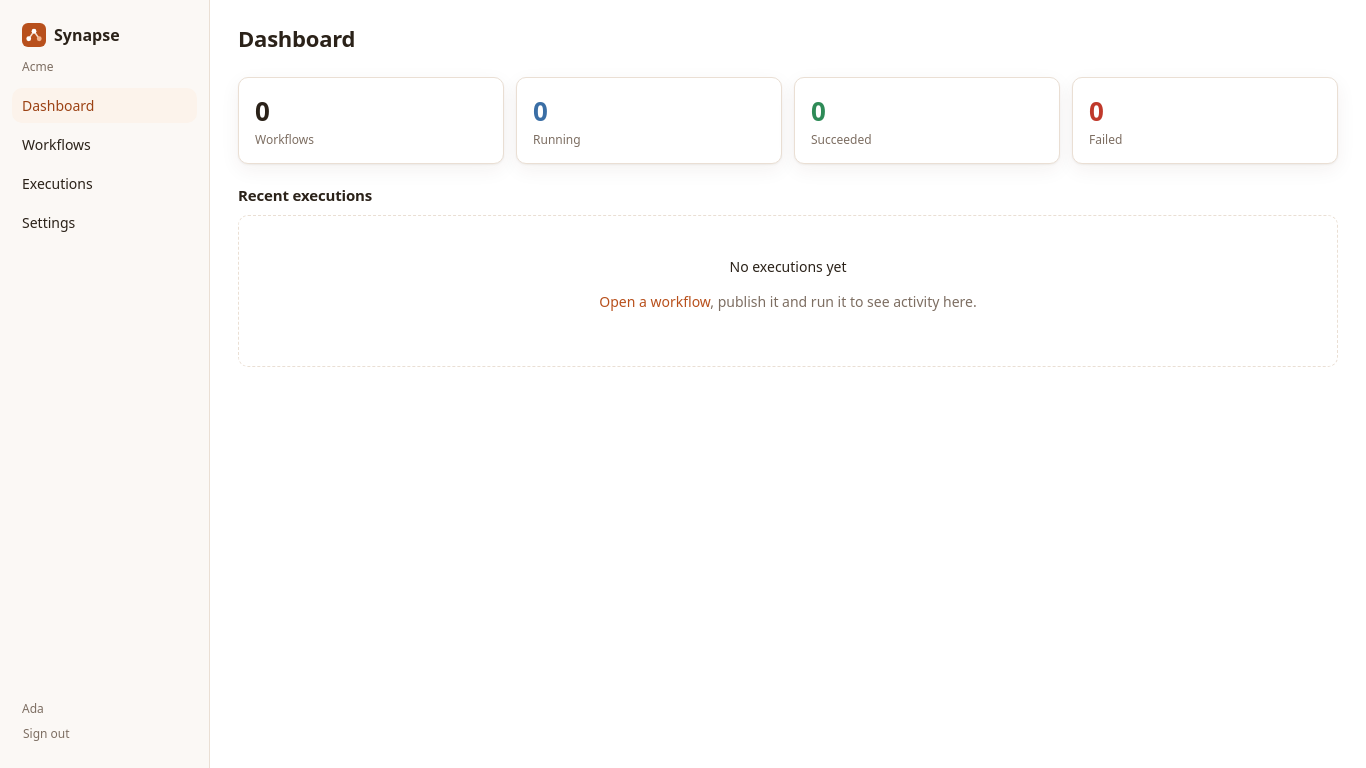
it: app shell › returns to the landing page on sign out
The image size is (1366, 768).
Step 1. Click the button "Sign out" → [46, 734], box [22, 722, 71, 746]
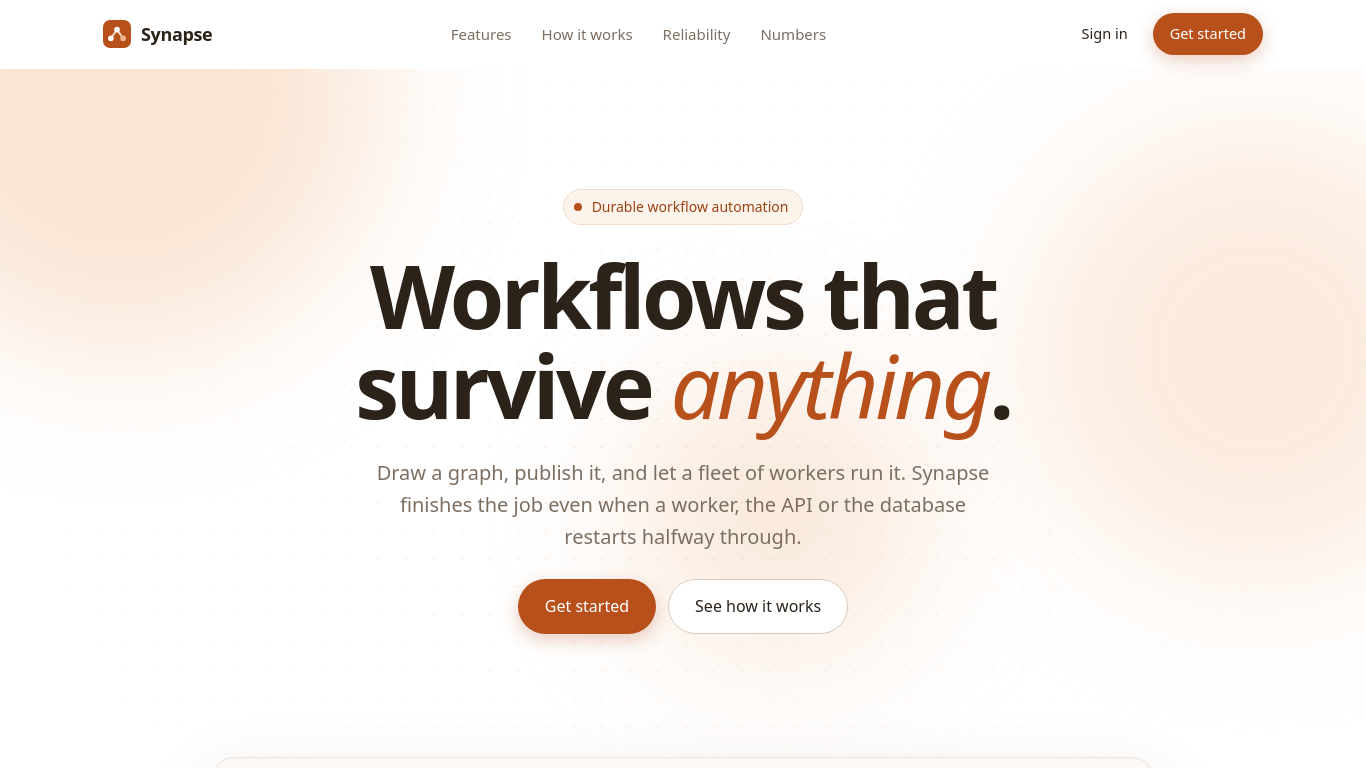
expect the heading "Workflows that survive anything." is shown: met, box [355, 235, 1011, 445]
expect the link "Get started" in the row of "Numbers" is shown: met, box [1153, 13, 1263, 55]
